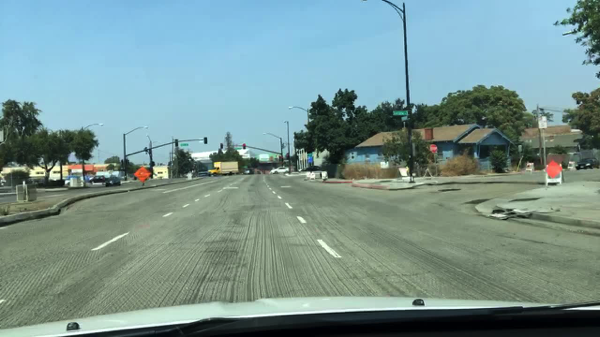car: (573, 157, 599, 170), (103, 176, 122, 189), (269, 167, 290, 175), (24, 177, 44, 185), (88, 176, 105, 184), (37, 179, 56, 186), (1, 176, 11, 188), (303, 166, 319, 172), (245, 168, 253, 175), (189, 172, 196, 179), (197, 172, 209, 176), (66, 178, 72, 186), (253, 169, 260, 175), (182, 173, 190, 178), (238, 170, 245, 175), (298, 169, 305, 172)
traffic light: (125, 159, 130, 169), (285, 153, 290, 162), (278, 155, 283, 163), (151, 160, 155, 169), (174, 140, 178, 148), (219, 143, 223, 150), (269, 156, 273, 163), (205, 137, 208, 145), (121, 160, 123, 169)
traffic sign: (543, 161, 561, 180), (133, 166, 151, 182), (537, 118, 546, 130), (393, 110, 407, 116), (1, 129, 6, 144), (430, 144, 437, 154), (400, 117, 408, 123), (181, 143, 189, 148)
truck: (208, 161, 239, 177)
